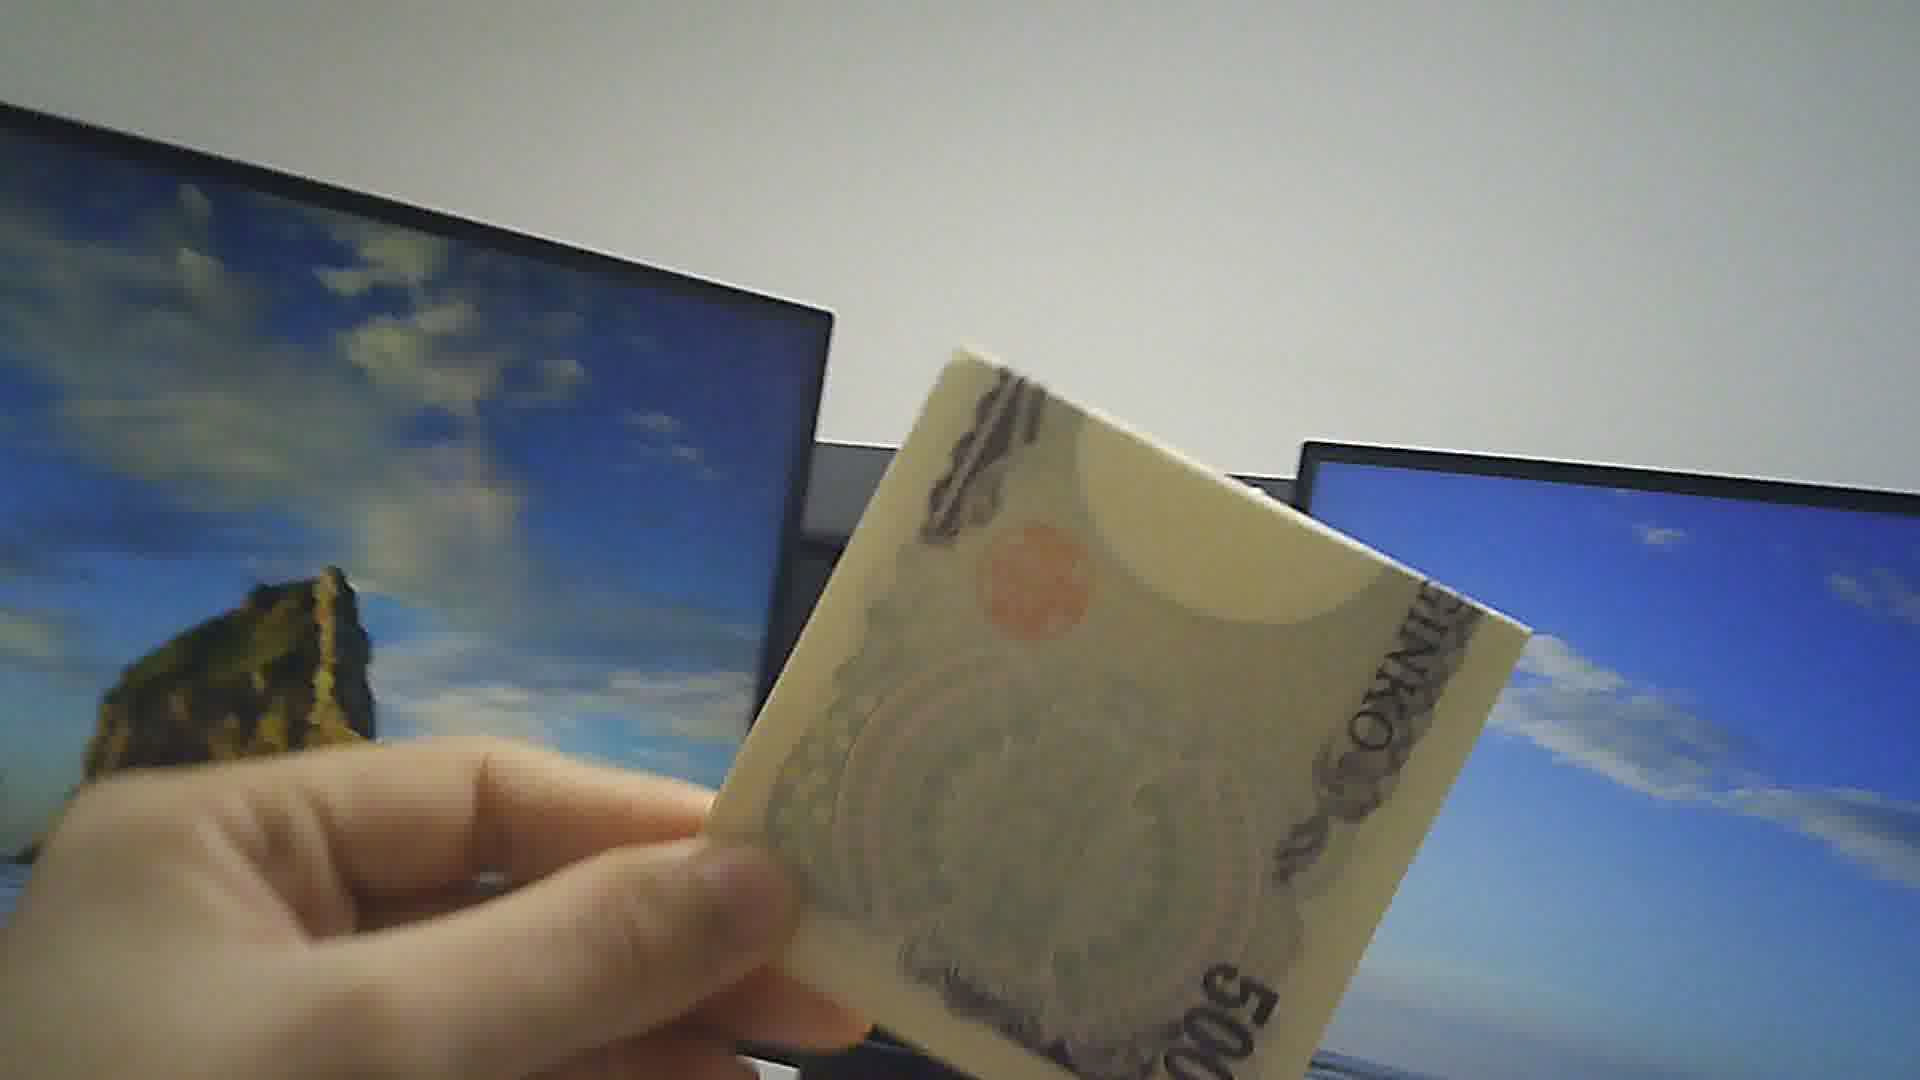5,000 Yen: (725, 342, 1501, 1071)
